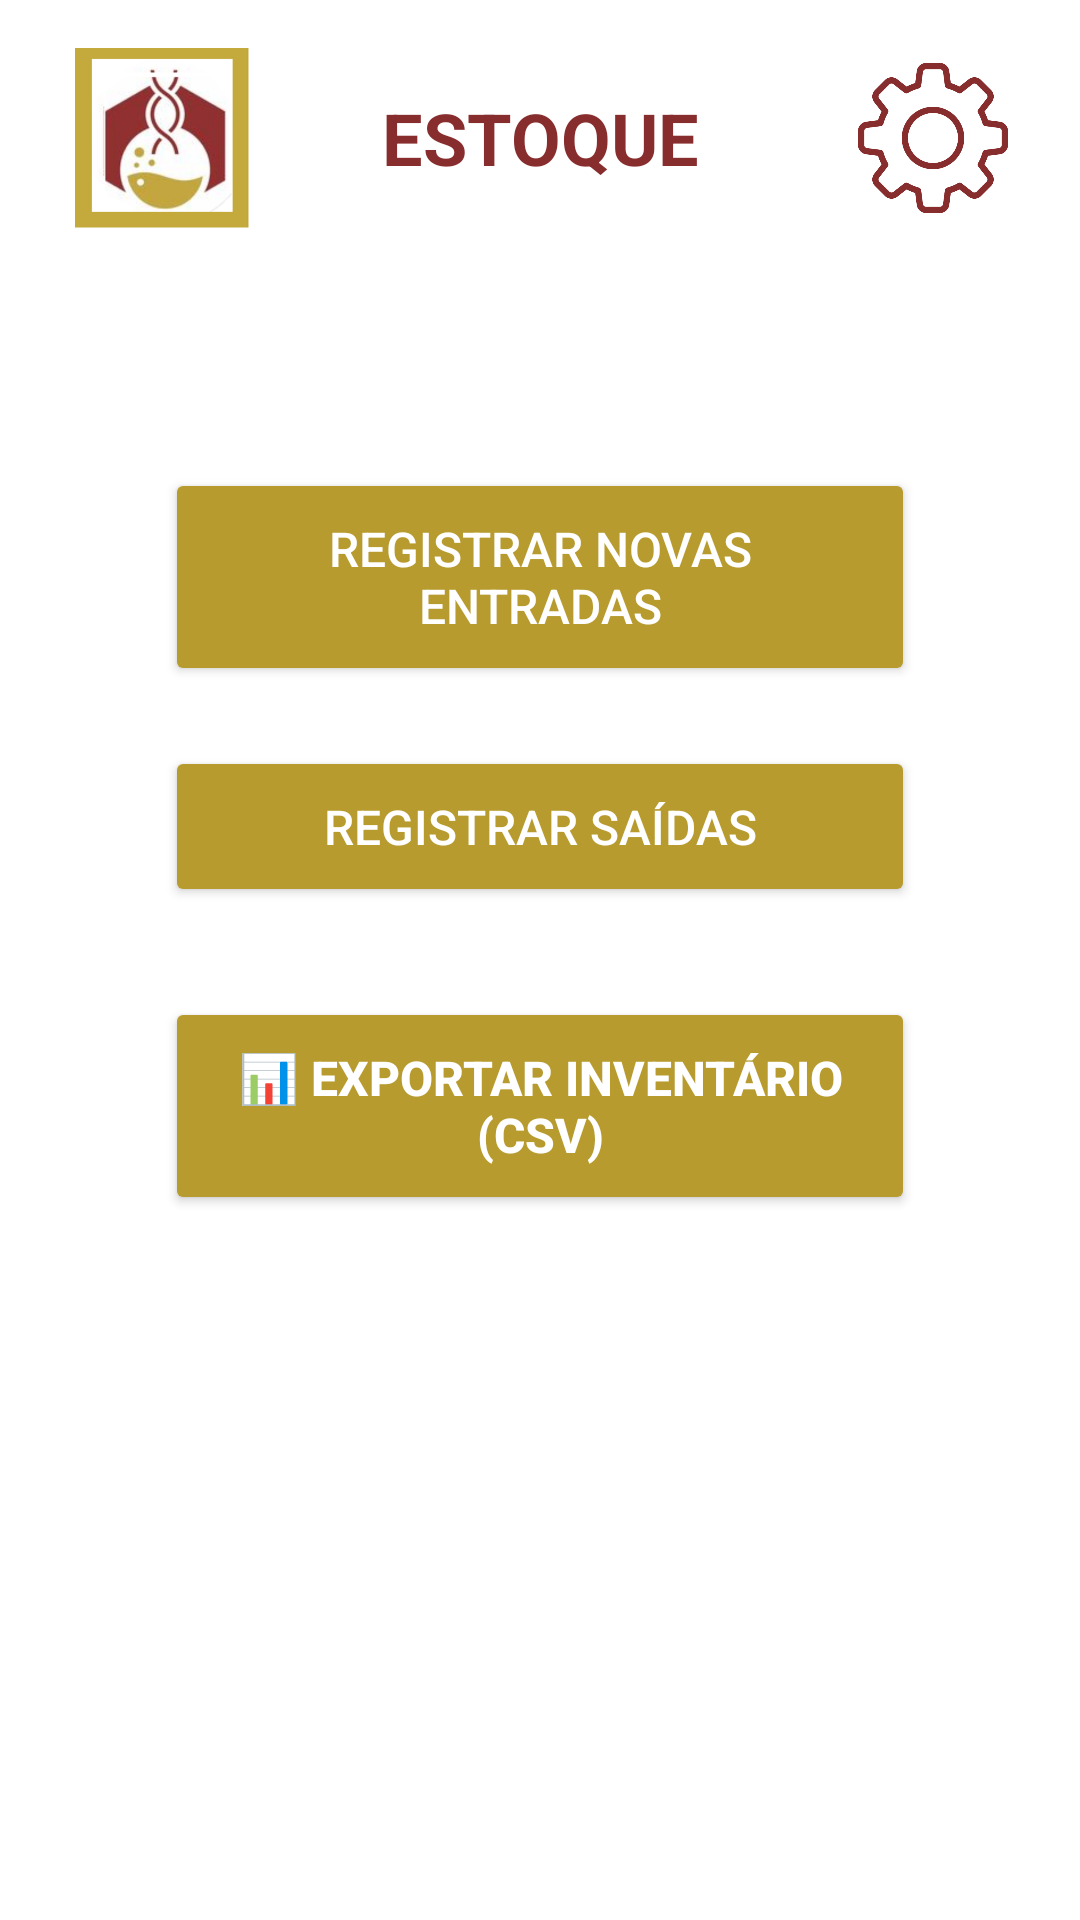

Where icons sit on this 1080w x 1920h app screen, as (x1, y1, x2, y2):
Configurações: (858, 63, 1008, 213)
